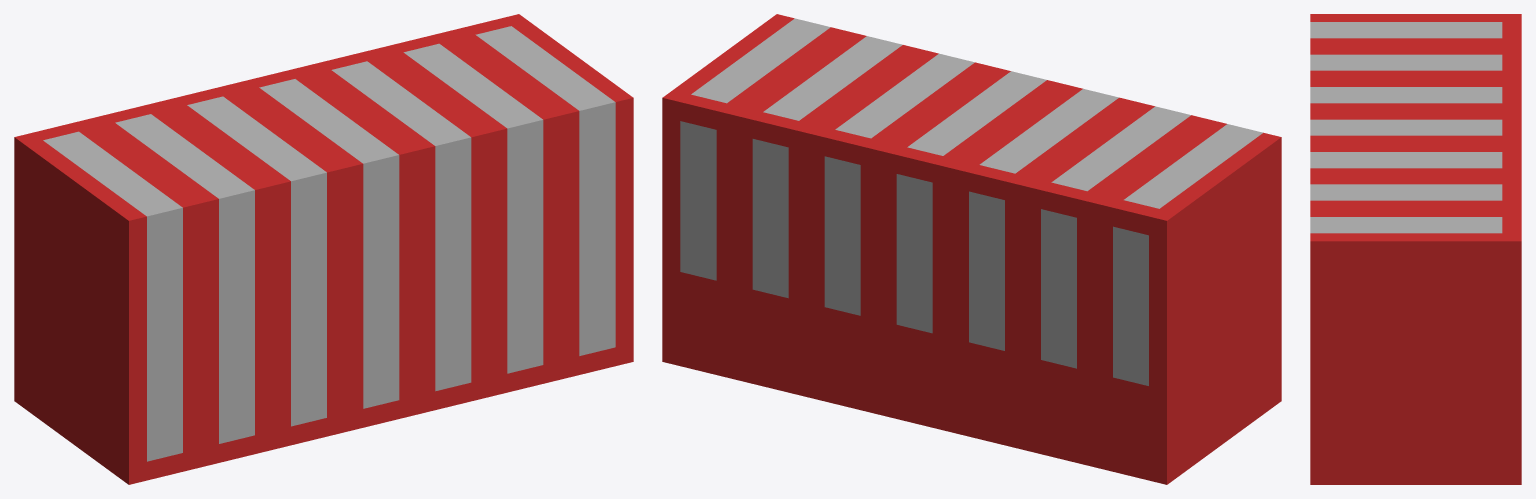
The model's file is files_box_04.glb.
The picture shows the model from 3 angles, left to right: view 1: azimuth 30°, elevation 25°; view 2: azimuth 150°, elevation 25°; view 3: azimuth 270°, elevation 25°; orthographic projection. The views are drawn at different scales.
Visible parts, largest first — view 1: Untitled; view 2: Untitled; view 3: Untitled.
Part boxes in pixels (box(x1,y1,x2,y2)): Untitled: box(14, 14, 633, 484); Untitled: box(662, 14, 1281, 484); Untitled: box(1310, 14, 1521, 484).
Bounding box in the file's own units: 0.84 × 0.42 × 0.33.
Materials: 1 (1 with a texture image).
